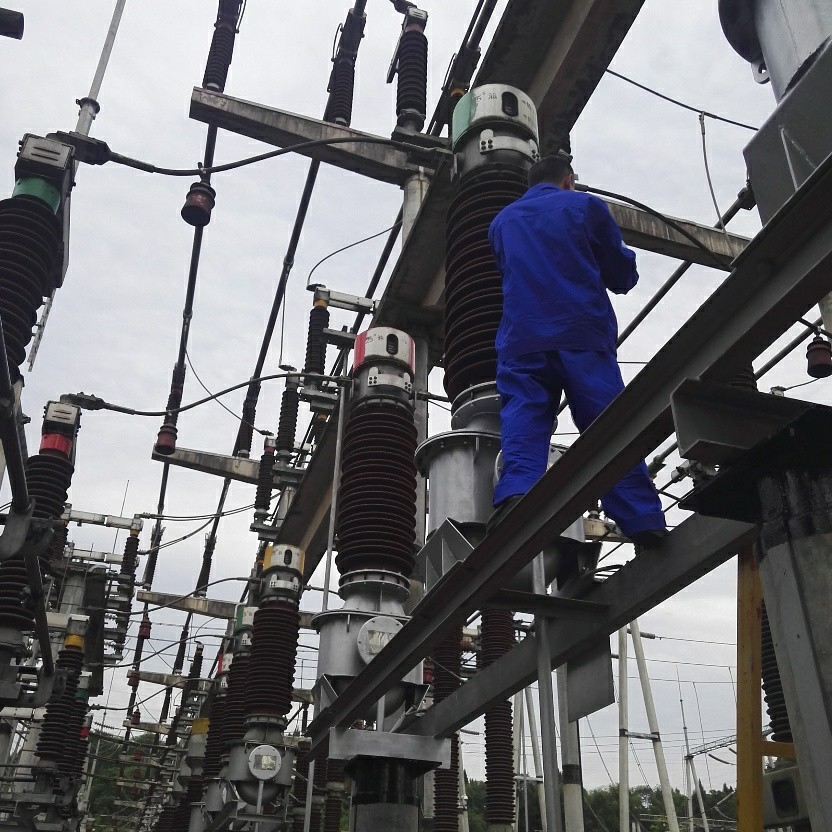no-hat: (524, 151, 580, 197)
